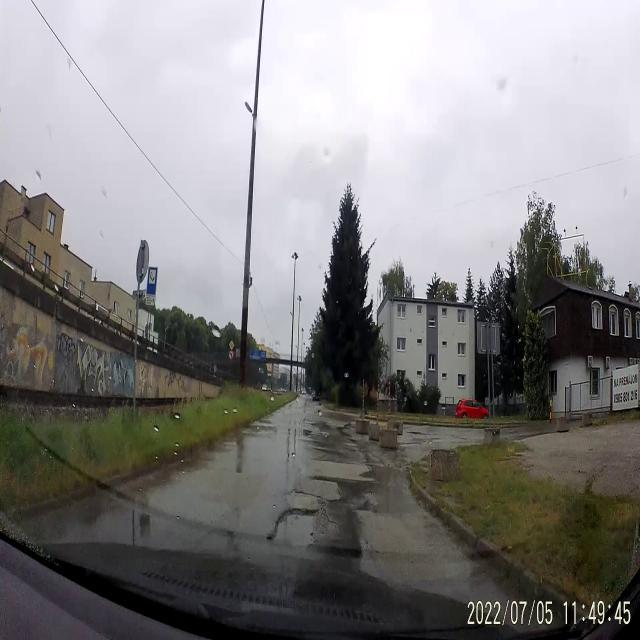Pothole: (268, 504, 320, 550), (320, 502, 340, 538), (286, 487, 320, 503), (407, 426, 427, 439)
